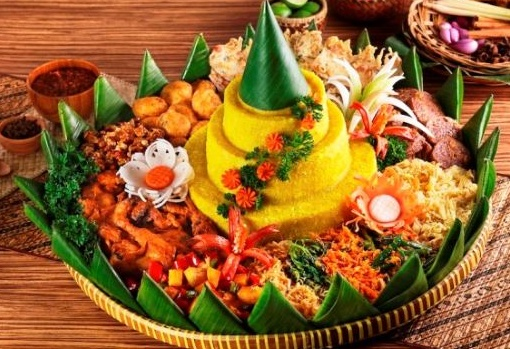tumpeng: (213, 4, 337, 139)
